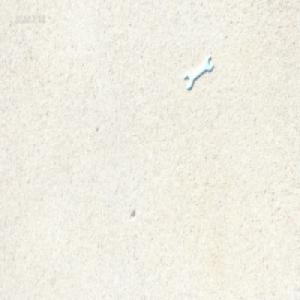Wrench: (183, 59, 210, 92)
